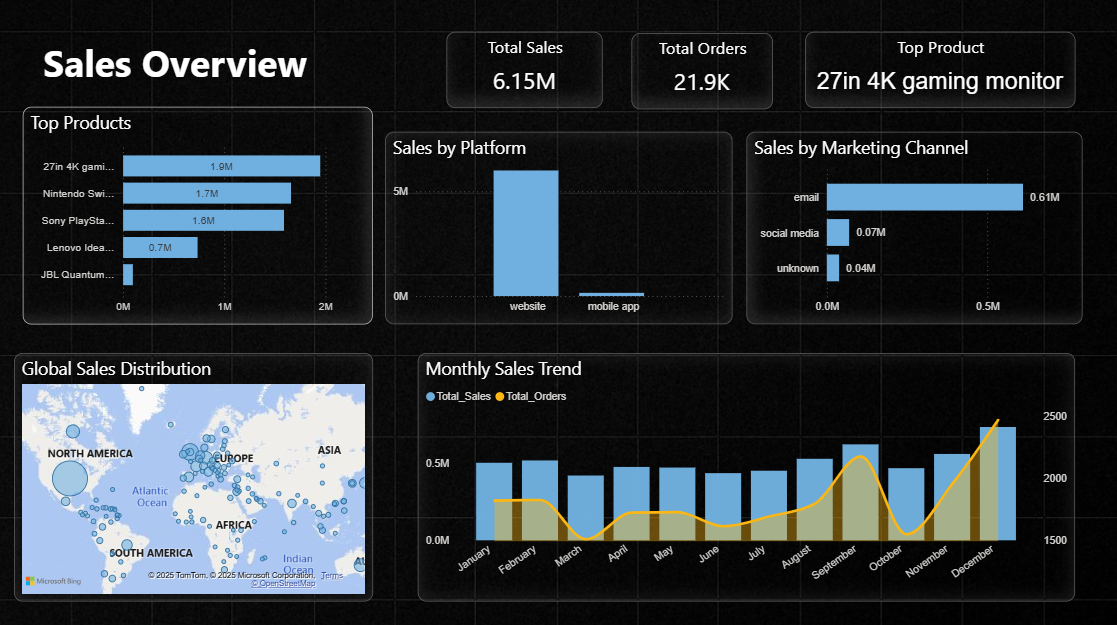

The dashboard page shown, as its layout file describes it:
{"tool":"powerbi","page":{"name":"Overview","canvas":[1280,720],"ordinal":0},"visuals":[{"type":"card","fields":{"Values":["cleaned_orders.Total_Sales"]},"box":[478.8,26.2,178.8,86.2],"z":0},{"type":"card","fields":{"Values":["cleaned_orders.Total_Orders"]},"box":[690,26.2,161.2,86.2],"z":1000},{"type":"card","fields":{"Values":["cleaned_orders.Top_Product"]},"box":[869.1,27.8,382.5,85.9],"z":2000},{"type":"clusteredBarChart","title":"Top Products","fields":{"Category":["cleaned_orders.PRODUCT_NAME"],"Y":["Sum(cleaned_orders.USD_PRICE)"]},"box":[27.5,140,390,220],"z":3000},{"type":"map","title":"Global Sales Distribution","fields":{"Category":["cleaned_orders.COUNTRY_CODE"],"Size":["cleaned_orders.Total_Orders"]},"box":[27.5,396.2,372.5,281.2],"z":4000},{"type":"lineStackedColumnComboChart","title":"Monthly Sales Trend","fields":{"Category":["cleaned_orders.PURCHASE_MONTH_NAME"],"Y":["cleaned_orders.Total_Sales"],"Y2":["cleaned_orders.Total_Orders"]},"box":[470,384.4,797.8,327.8],"z":5000},{"type":"clusteredColumnChart","title":"Sales by Platform","fields":{"Category":["cleaned_orders.PURCHASE_PLATFORM"],"Y":["cleaned_orders.Total_Sales"]},"box":[495,140,388.8,198.8],"z":6000},{"type":"clusteredBarChart","title":"Sales by Marketing Channel","fields":{"Category":["cleaned_orders.MARKETING_CHANNEL"],"Y":["cleaned_orders.Total_Sales"]},"box":[883.8,140,383.8,197.5],"z":7000},{"type":"textbox","box":[27.5,27.5,347.5,85],"z":8000},{"type":"actionButton","title":"2019","box":[957.5,360,81.2,36.2],"z":8001},{"type":"actionButton","title":"2020","box":[1038.8,360,81.2,36.2],"z":8002},{"type":"actionButton","title":"2021","box":[1120,360,81.2,36.2],"z":8003}]}

Visuals, with their boxes in screenshot pixels (x1, y1, x2, y2), scaled from the page's 1280x720 canvas onto the 1117x625 screenshot:
card - cleaned_orders.Total_Sales: {"left": 418, "top": 23, "right": 574, "bottom": 98}
card - cleaned_orders.Total_Orders: {"left": 602, "top": 23, "right": 743, "bottom": 98}
card - cleaned_orders.Top_Product: {"left": 758, "top": 24, "right": 1092, "bottom": 99}
"Top Products" clusteredBarChart: {"left": 24, "top": 122, "right": 364, "bottom": 312}
"Global Sales Distribution" map: {"left": 24, "top": 344, "right": 349, "bottom": 588}
"Monthly Sales Trend" lineStackedColumnComboChart: {"left": 410, "top": 334, "right": 1106, "bottom": 618}
"Sales by Platform" clusteredColumnChart: {"left": 432, "top": 122, "right": 771, "bottom": 294}
"Sales by Marketing Channel" clusteredBarChart: {"left": 771, "top": 122, "right": 1106, "bottom": 293}
textbox: {"left": 24, "top": 24, "right": 327, "bottom": 98}
"2019" actionButton: {"left": 836, "top": 312, "right": 906, "bottom": 344}
"2020" actionButton: {"left": 907, "top": 312, "right": 977, "bottom": 344}
"2021" actionButton: {"left": 977, "top": 312, "right": 1048, "bottom": 344}
